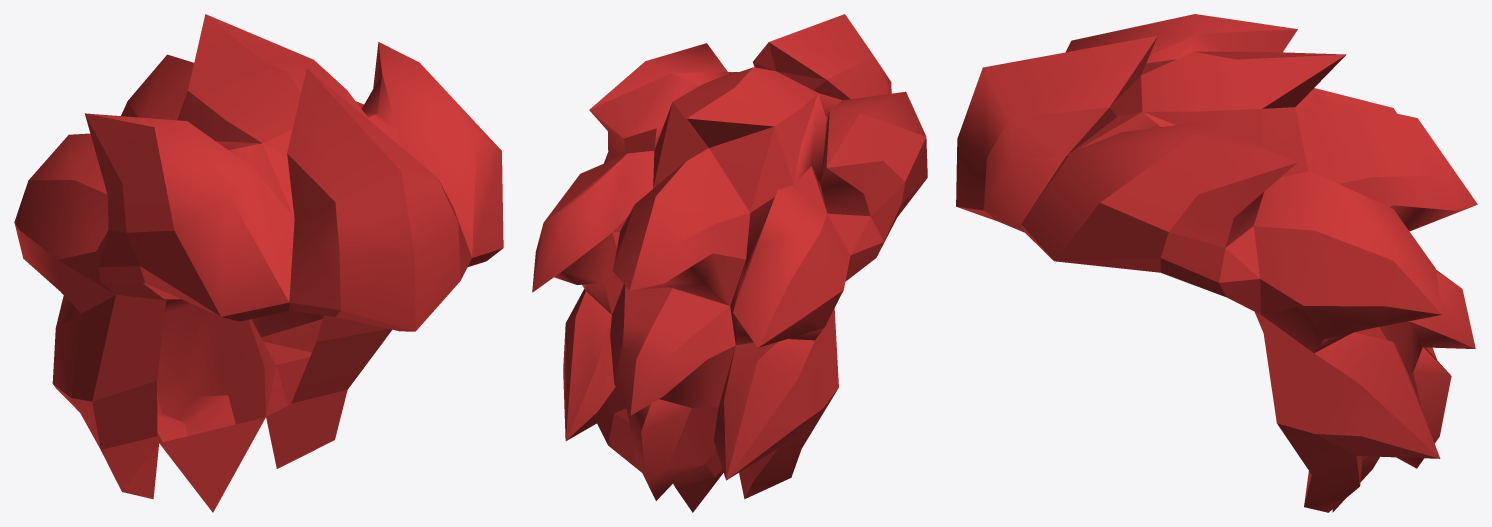
File: Hair_Red_19.fbx
The picture shows the model from 3 angles, left to right: view 1: azimuth 30°, elevation 25°; view 2: azimuth 150°, elevation 25°; view 3: azimuth 270°, elevation 25°; orthographic projection. The views are drawn at different scales.
Visible parts, largest first — view 1: Hair_Red_19; view 2: Hair_Red_19; view 3: Hair_Red_19.
Boxes of the visible parts, x1,y1,x2,y2 form: Hair_Red_19: (14,14,503,512); Hair_Red_19: (532,14,927,512); Hair_Red_19: (956,14,1477,512).
Bounding box in the file's own units: 47.08 × 65.84 × 65.25.
